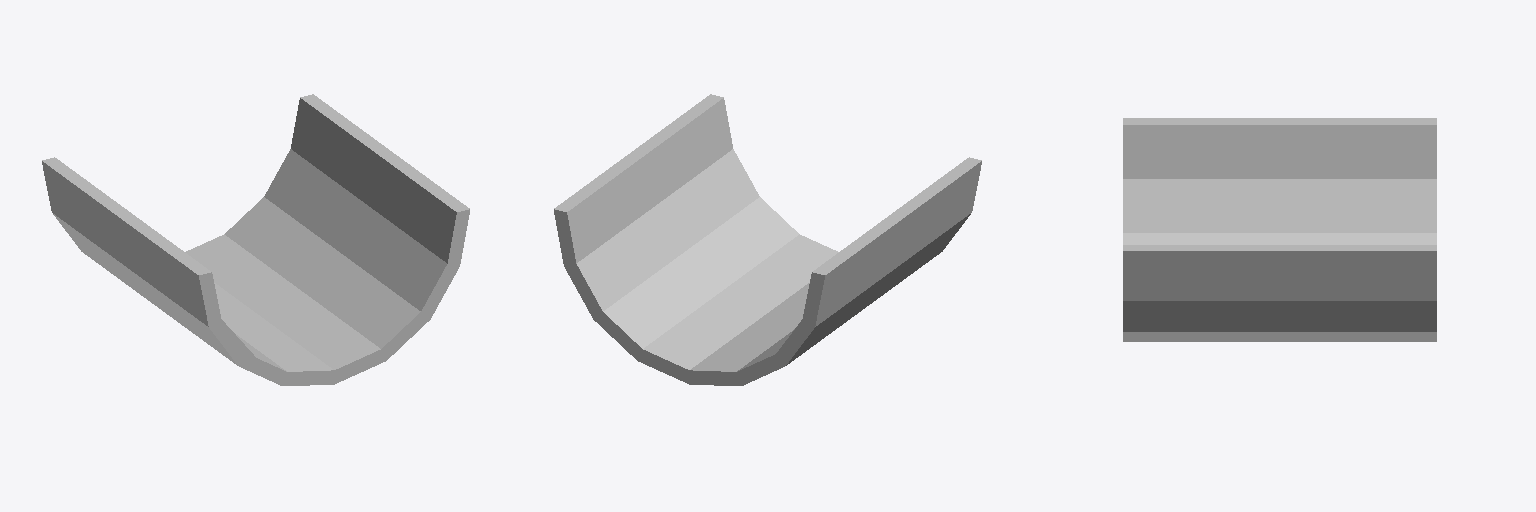
Rendered from Gutter.obj.
3 renders of one model, left to right at view 1: azimuth 30°, elevation 25°; view 2: azimuth 150°, elevation 25°; view 3: azimuth 270°, elevation 25°, orthographic.
Parts seen in each view (by area): view 1: Cylinder; view 2: Cylinder; view 3: Cylinder.
Boxes of the visible parts, x1,y1,x2,y2 form: Cylinder: [42, 94, 469, 385]; Cylinder: [554, 94, 981, 385]; Cylinder: [1123, 118, 1436, 341].
Size of the model in its own units: 0.4 by 0.2 by 0.4.